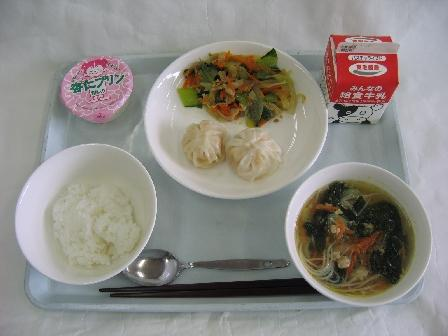Cup desserts: (55, 52, 139, 128)
Milk: (320, 30, 406, 129)
Rice: (30, 157, 141, 276)
Soups: (290, 162, 424, 301)
manty: (182, 122, 282, 187)
salad with sauce: (187, 44, 295, 124)
